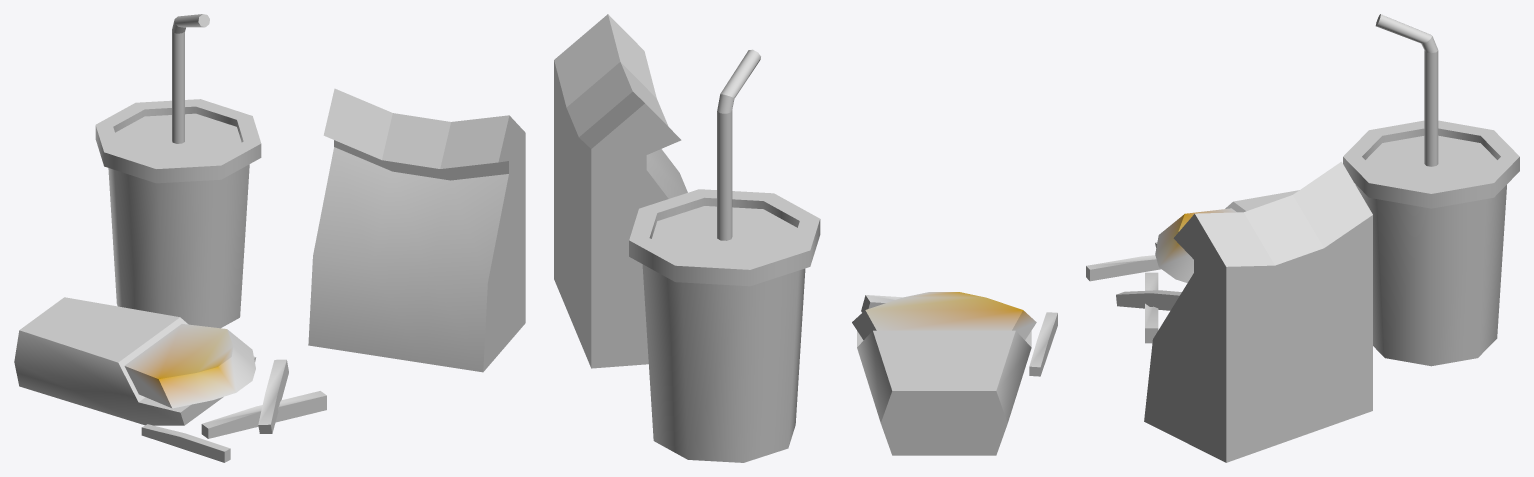
File: fast food.FBX
3 renders of one model, left to right at view 1: azimuth 30°, elevation 25°; view 2: azimuth 150°, elevation 25°; view 3: azimuth 270°, elevation 25°, orthographic. The views are drawn at different scales.
Visible parts, largest first — view 1: 5, Cup, Fries, Fry, Fry002, Fry001; view 2: Cup, 5, Fries, Fry002; view 3: 5, Cup, Fries, Fry002, Fry001, Fry.
Boxes of the visible parts, box(x1,y1,x2,y2) form: 5: box(308, 88, 525, 372); Cup: box(95, 14, 261, 328); Fries: box(14, 297, 256, 425); Fry: box(201, 391, 326, 438); Fry002: box(141, 424, 230, 462); Fry001: box(258, 359, 288, 433); Cup: box(629, 49, 820, 462); 5: box(554, 14, 687, 368); Fries: box(852, 292, 1036, 455); Fry002: box(1029, 312, 1057, 376); 5: box(1144, 161, 1372, 462); Cup: box(1343, 14, 1519, 366); Fries: box(1155, 183, 1355, 282); Fry002: box(1086, 255, 1161, 281); Fry001: box(1116, 290, 1181, 310); Fry: box(1145, 272, 1158, 343).
Size of the model in its own units: 214 by 142 by 172.
